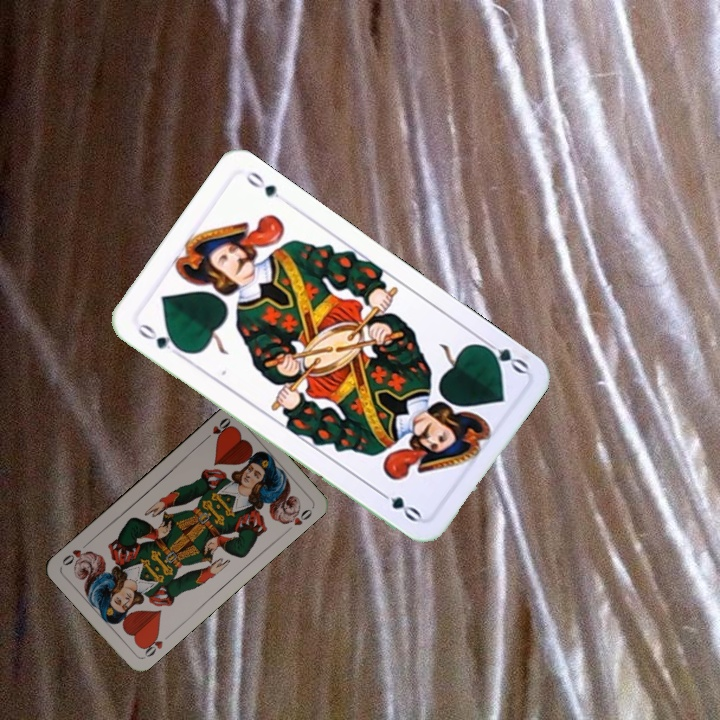GO: (475, 334, 531, 377), (133, 319, 186, 360)
HO: (137, 629, 173, 660), (200, 413, 234, 444)
